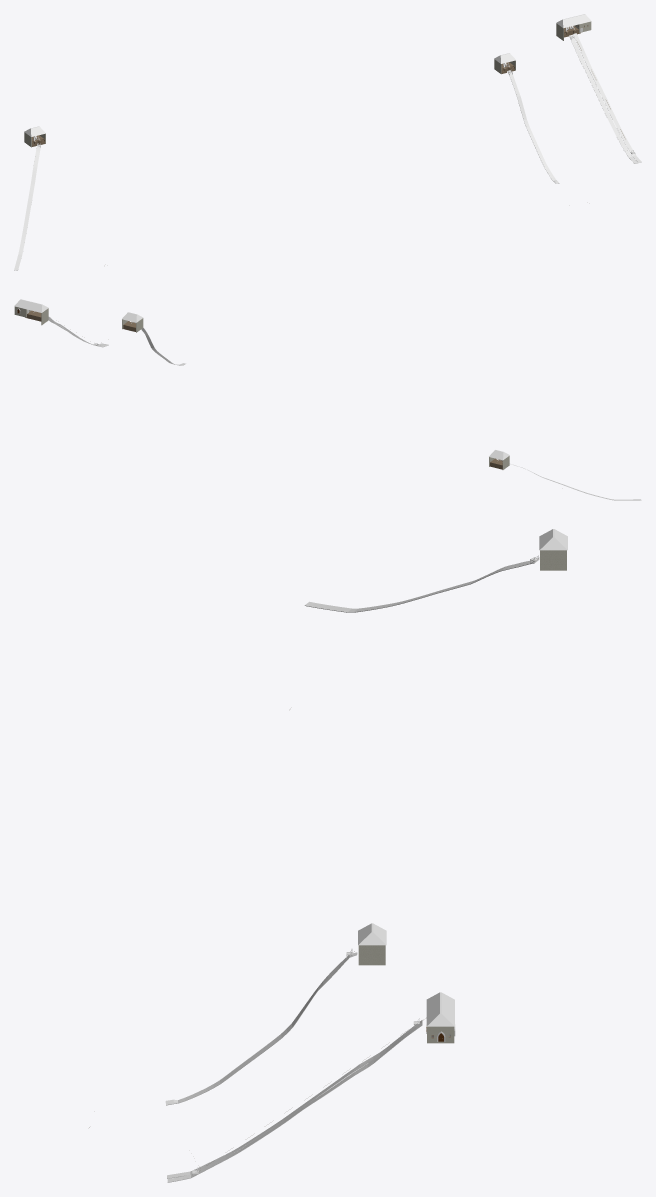
Rendered from Gruas.fbx.
3 renders of one model, top to bottom at view 1: azimuth 30°, elevation 25°; view 2: azimuth 150°, elevation 25°; view 3: azimuth 270°, elevation 25°, orthographic. The views are drawn at different scales.
Parts seen in each view (by area): view 1: Cube.1808, Cube.1809, Cube.1875, Cube.1860; view 2: no part large enough to name; view 3: Cube.1860, Cube.1808, Cube.1809, Cube.1875, RoofSingle.042.
Boxes of the visible parts, bbox=[...] form: Cube.1808: bbox=[573, 33, 641, 162]; Cube.1809: bbox=[569, 35, 637, 163]; Cube.1875: bbox=[14, 145, 40, 270]; Cube.1860: bbox=[507, 70, 559, 183]; Cube.1860: bbox=[165, 952, 357, 1105]; Cube.1808: bbox=[167, 1022, 422, 1182]; Cube.1809: bbox=[167, 1020, 422, 1178]; Cube.1875: bbox=[304, 559, 539, 612]; RoofSingle.042: bbox=[426, 992, 454, 1026].
Bounding box in the file's own units: 41585 × 6641 × 14597.
